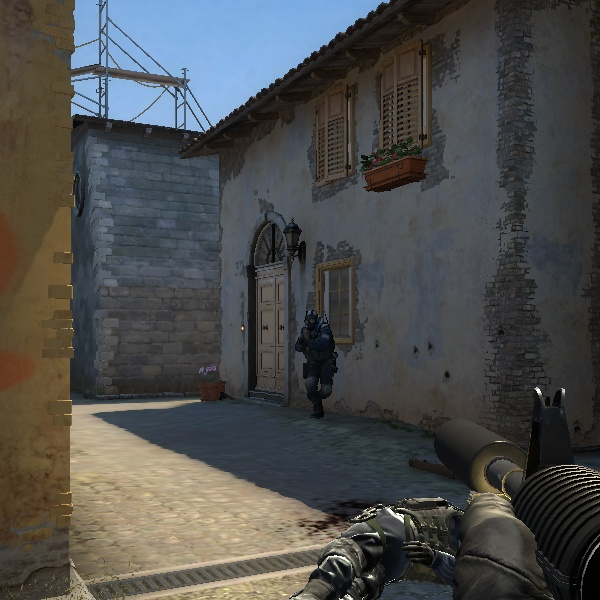ct_body: (289, 307, 344, 418)
